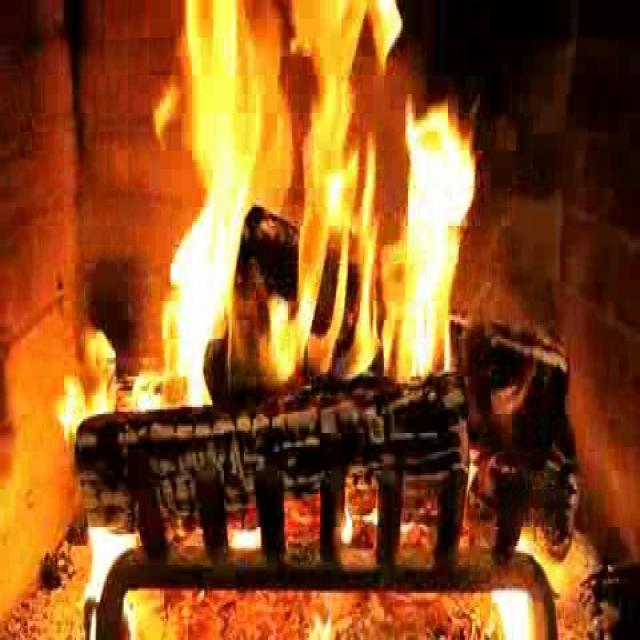fire: (163, 11, 465, 404)
